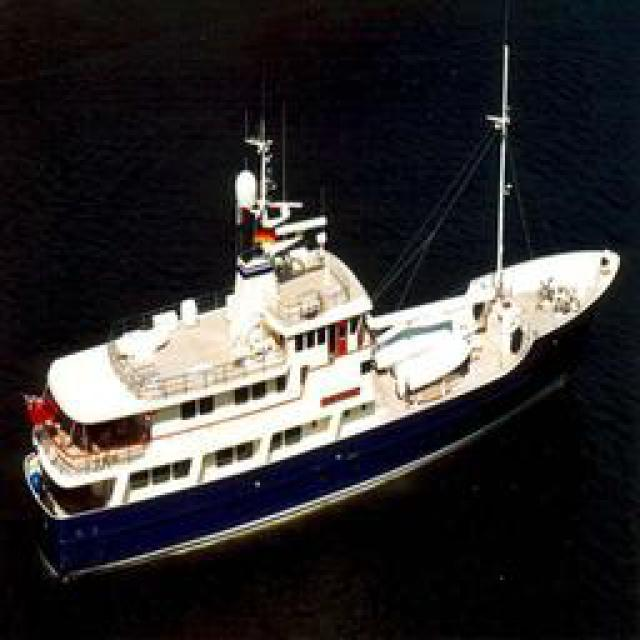Ship: (26, 167, 611, 595)
